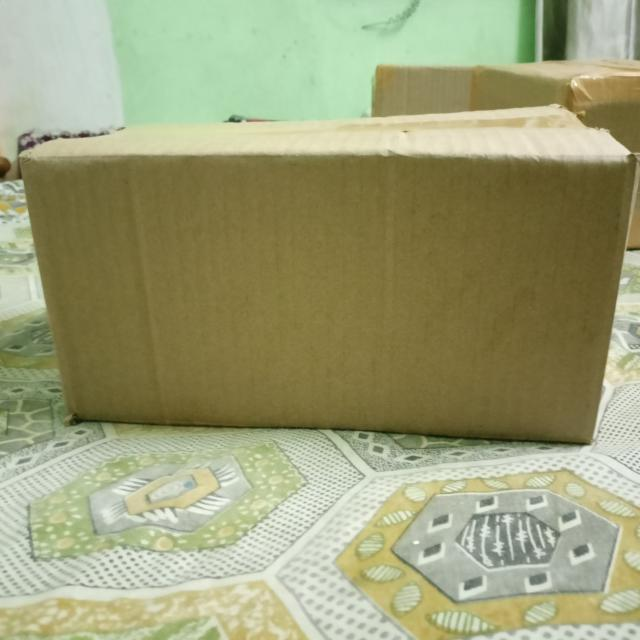box: (18, 160, 633, 442)
